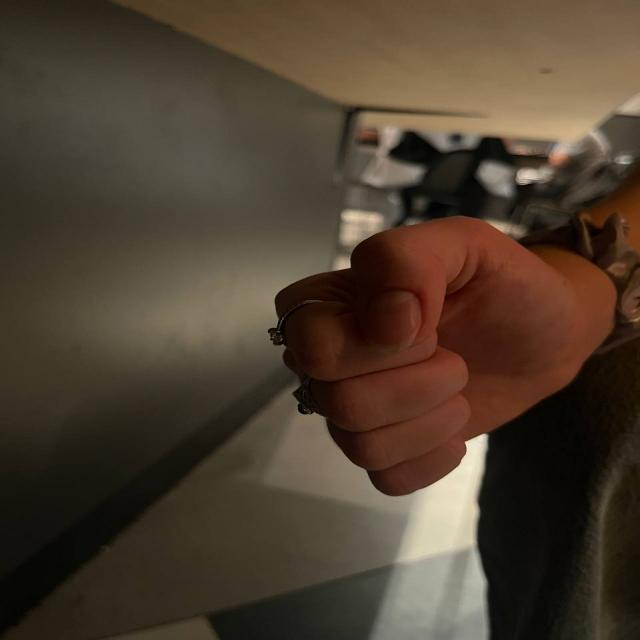a: (249, 220, 587, 493)
